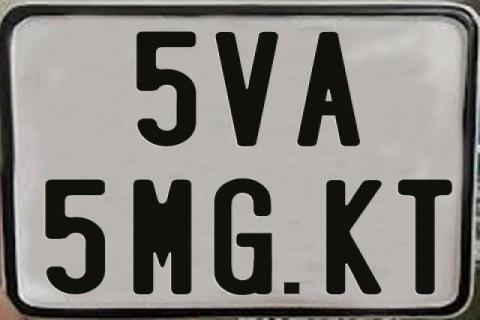0: (136, 31, 196, 151), (44, 177, 104, 293)
A: (294, 32, 361, 148)
G: (213, 177, 274, 295)
K: (326, 180, 382, 294)
M: (131, 178, 191, 296)
T: (396, 179, 456, 295)
V: (213, 32, 279, 149)
